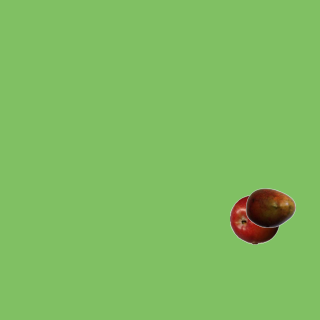Apple Braeburn: (229, 194, 279, 244)
Mango Red: (245, 182, 295, 232)
